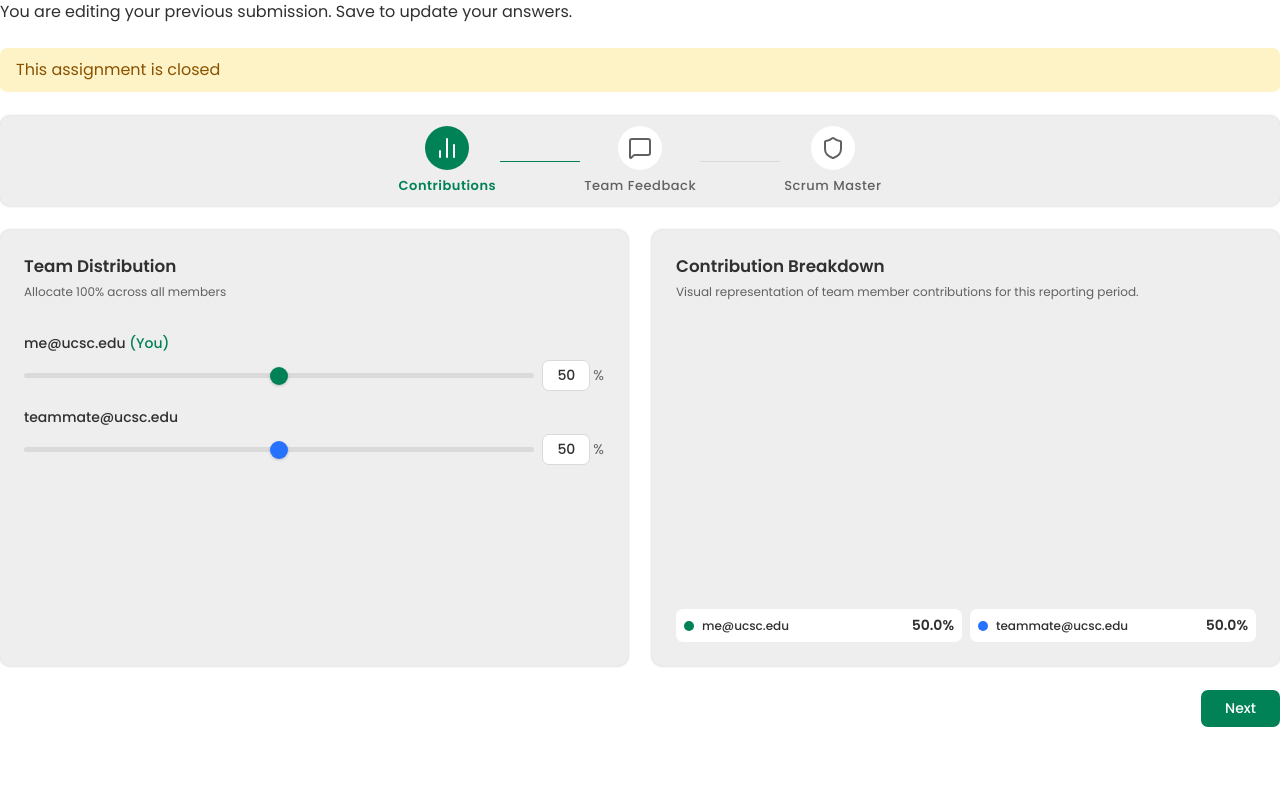
it: TSRS submission window › disables the scrum master's Submit too
This screenshot has width=1280, height=800.
Expected: the text "This assignment is closed" is shown, [0,48,1279,92]
Click the button "Next". click: {"x": 1241, "y": 709}
box: [1201,690,1279,727]
(page scrolled)
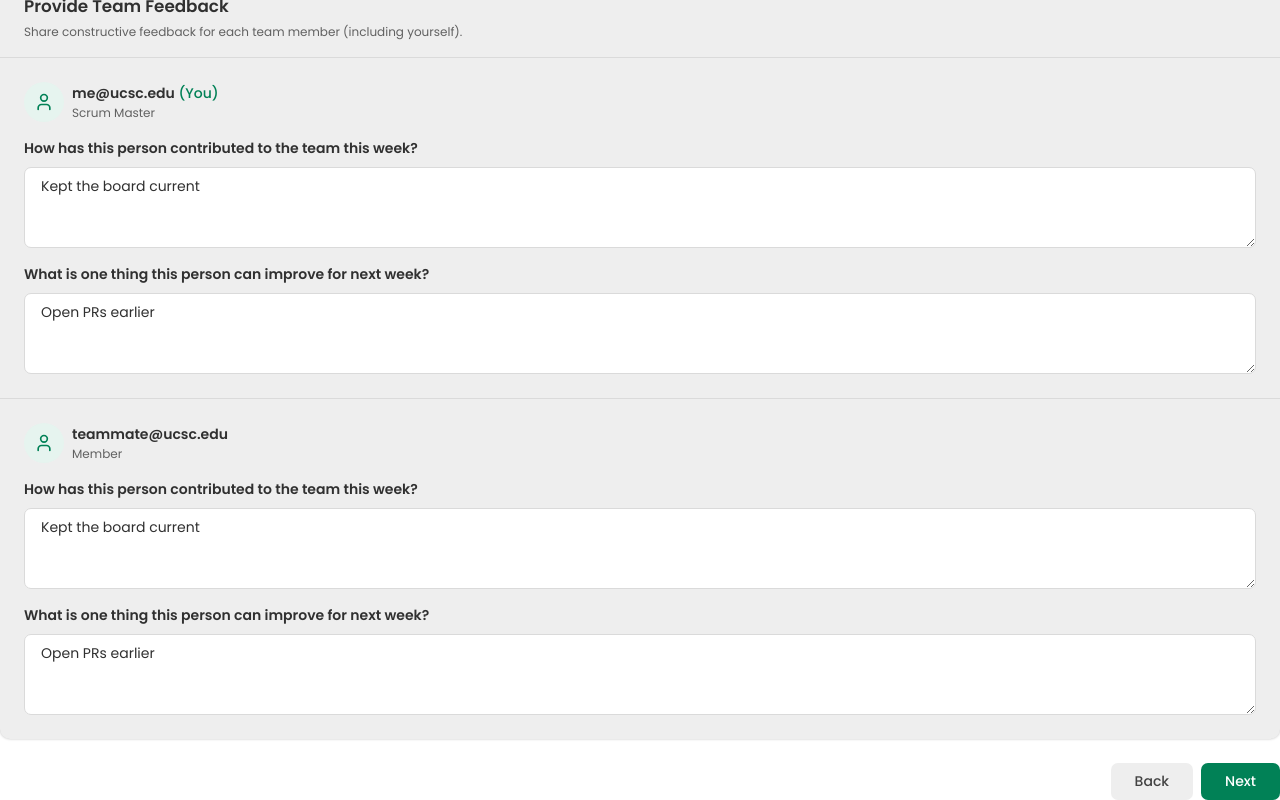
Click the button "Next". click: {"x": 1241, "y": 782}
box: [1201,763,1279,799]
(page scrolled)
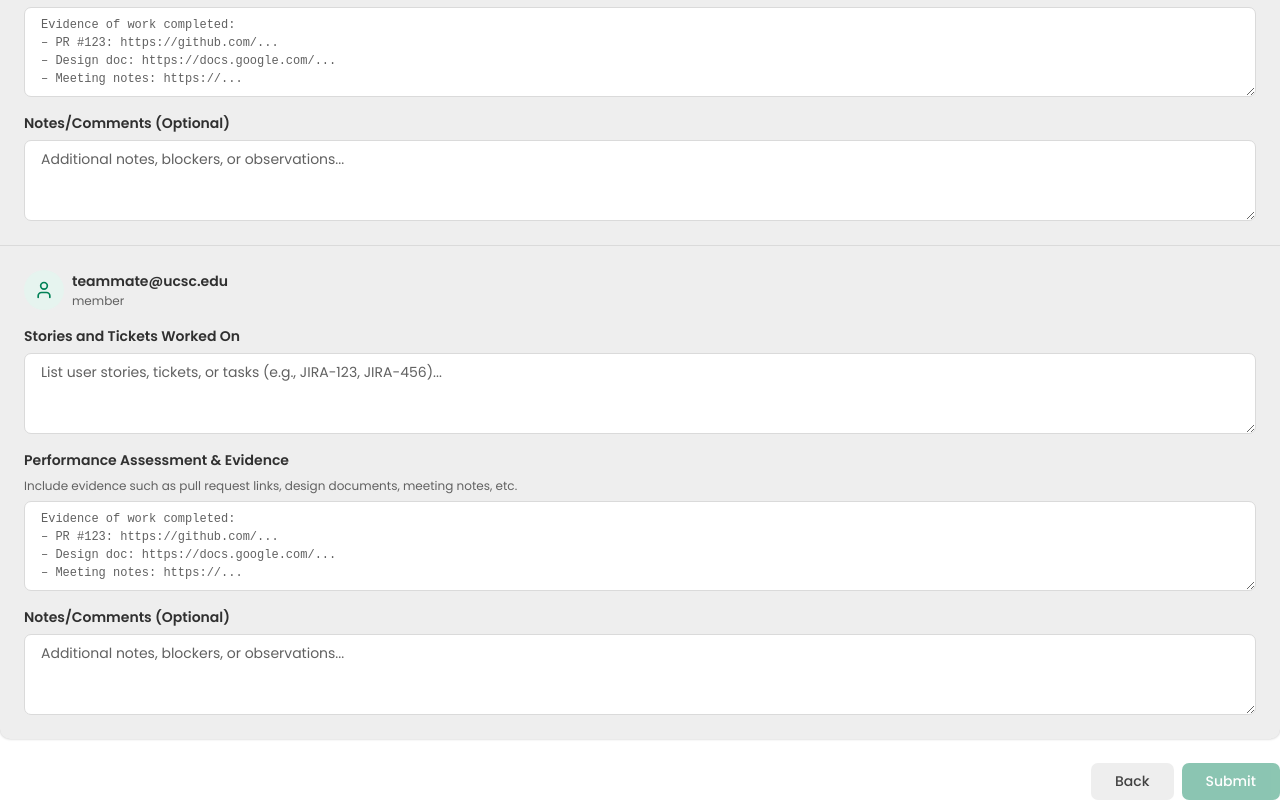
Expected: the button "Submit" is disabled, [1182,763,1279,799]
